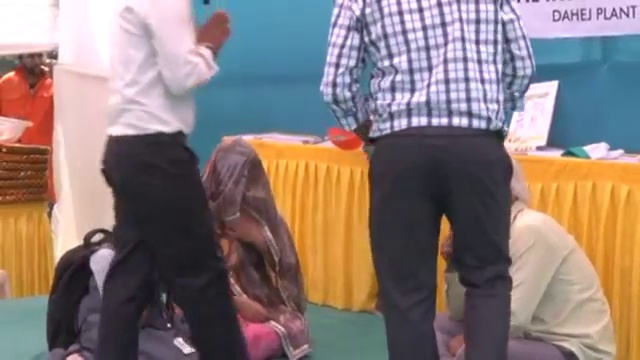helmet: (0, 114, 34, 144)
helmet_off: (206, 142, 264, 204), (18, 49, 47, 76)
person: (325, 0, 542, 359), (100, 0, 248, 360), (435, 155, 622, 360), (202, 137, 309, 359), (35, 228, 199, 360), (1, 50, 57, 152)
